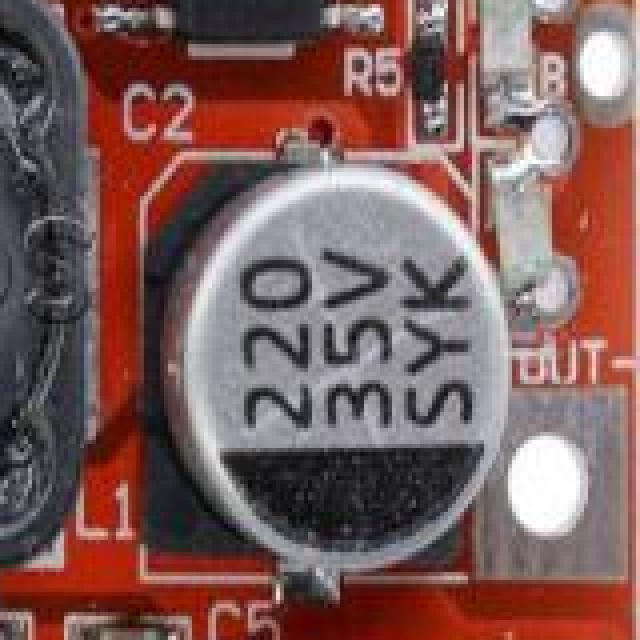IC: (124, 0, 352, 64)
LED: (504, 144, 564, 302), (480, 0, 532, 100)
capacitor: (140, 180, 496, 604), (92, 624, 168, 640)
inductor: (0, 0, 92, 564)
resistor: (416, 4, 450, 100), (0, 624, 20, 640)
